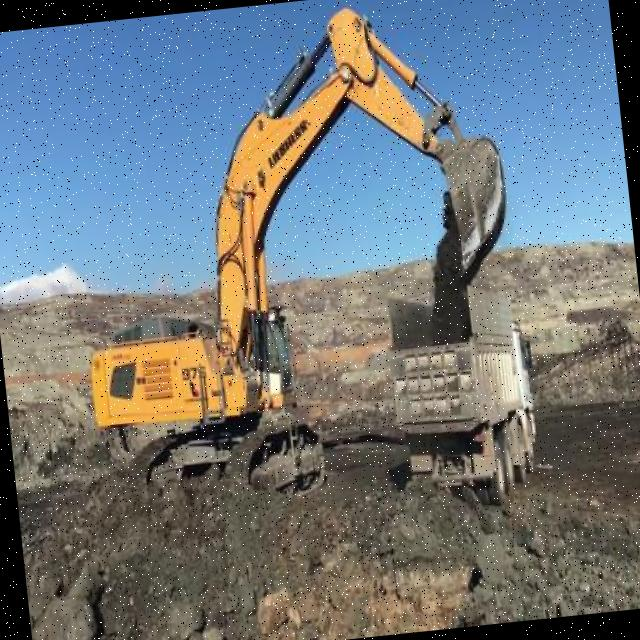Dump Truck: (380, 276, 548, 516)
Excavator: (53, 0, 535, 513)
